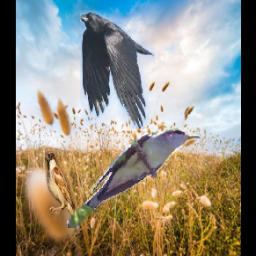Crow: (79, 10, 154, 129)
Cuckoo: (67, 127, 201, 228)
Sparrow: (45, 151, 80, 234)
